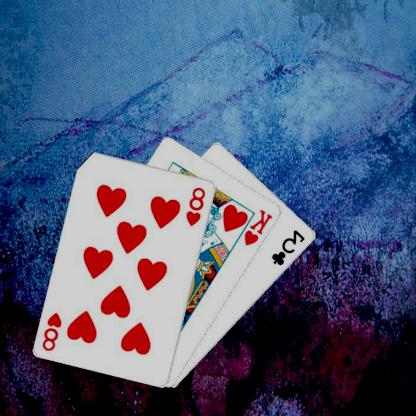3C: (271, 227, 308, 267)
8H: (186, 184, 209, 228), (42, 309, 65, 352)
KH: (244, 206, 276, 247)
